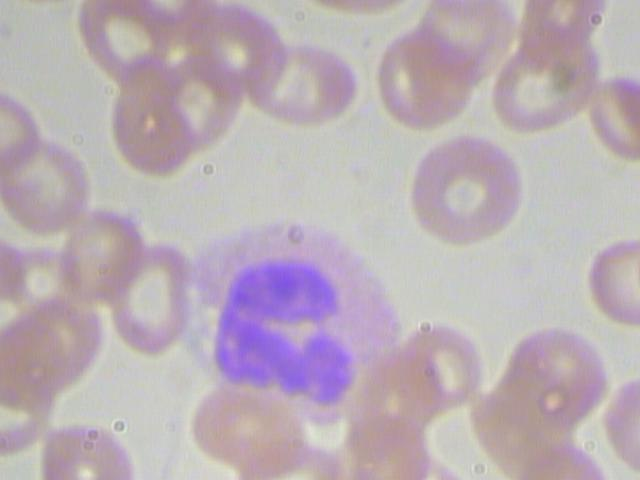RBC: (408, 135, 536, 250), (371, 23, 488, 136), (484, 21, 601, 134), (239, 38, 361, 125), (107, 238, 197, 355), (72, 1, 177, 86), (1, 137, 92, 235), (582, 232, 640, 326)
